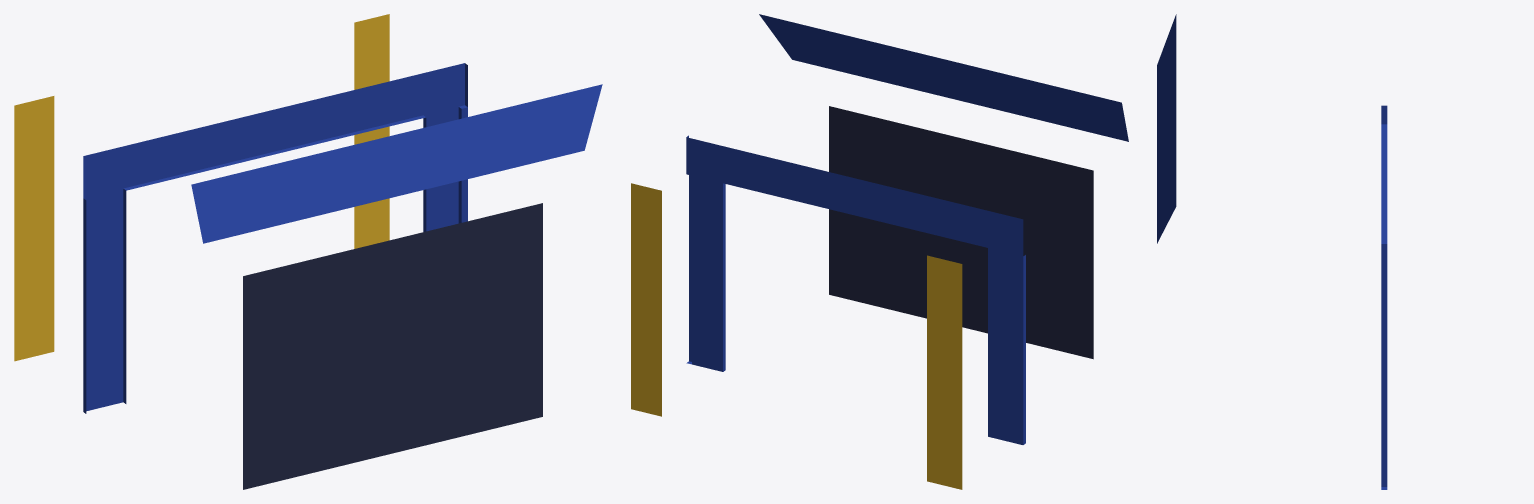
Rendered from galaxy_building_top.fbx.
3 views of the same model, side by side, from view 1: azimuth 30°, elevation 25°; view 2: azimuth 150°, elevation 25°; view 3: azimuth 270°, elevation 25° (orthographic). The views are drawn at different scales.
Parts seen in each view (by area): view 1: galaxy_building_top; view 2: galaxy_building_top; view 3: galaxy_building_top.
Boxes of the visible parts, x1,y1,x2,y2 form: galaxy_building_top: (14, 14, 602, 489); galaxy_building_top: (631, 14, 1128, 489); galaxy_building_top: (1157, 14, 1387, 489).
Bounding box in the file's own units: 658 × 471 × 523.
